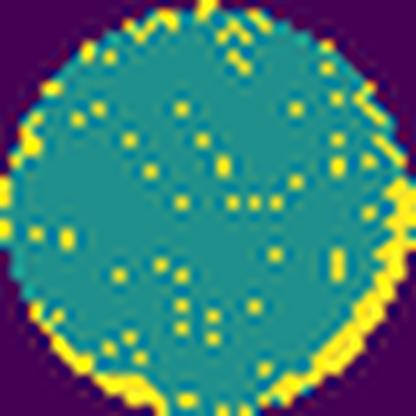Edge-Loc: (251, 168, 415, 416), (24, 293, 168, 416)
